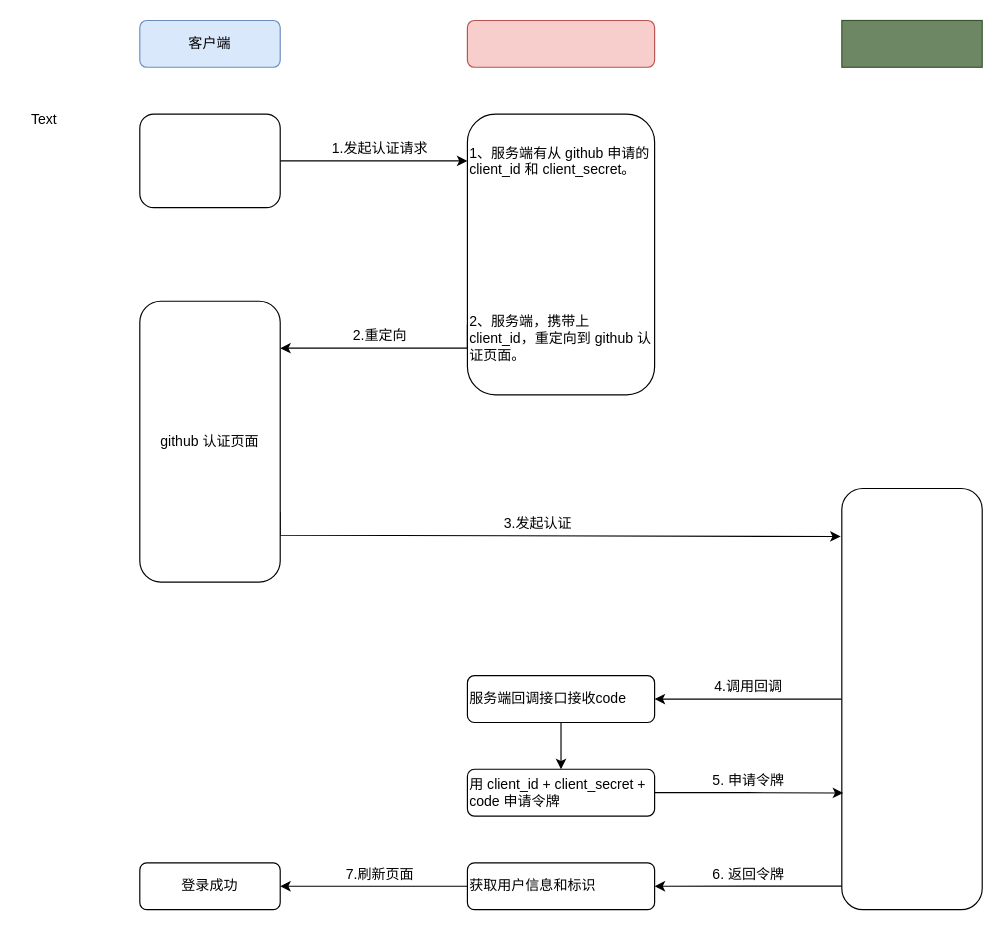
Image size: 1003x930. Some labels were removed from this diagram. Each missing label, with the centre of its shape:
"GitHub服务器" goes at pixel 911 43.
"github认证服务" goes at pixel 911 698.
"发起认证" goes at pixel 209 160.
"服务端" goes at pixel 560 43.
